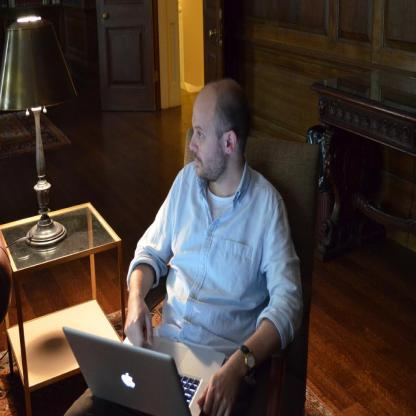board: (63, 334, 226, 416)
